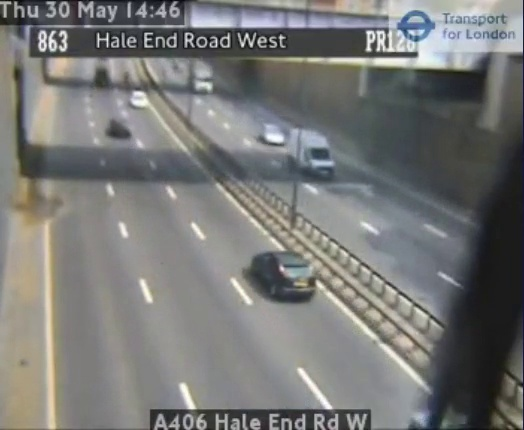car: (251, 251, 317, 301)
